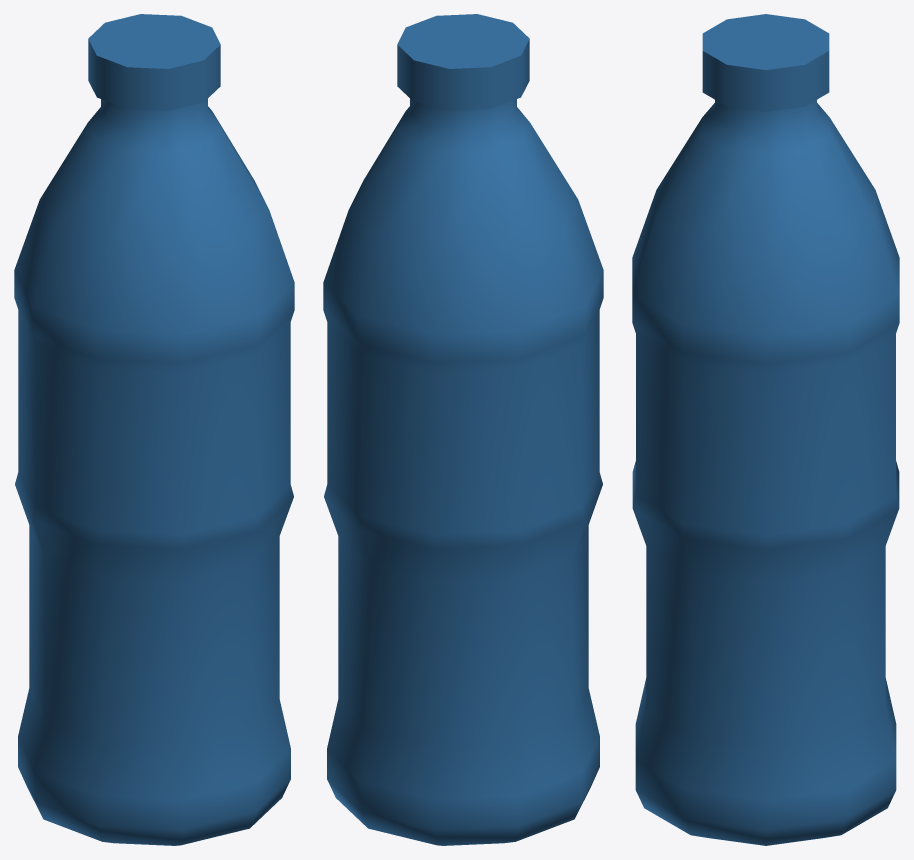
File: botelladeAwa.fbx
3 renders of one model, left to right at view 1: azimuth 30°, elevation 25°; view 2: azimuth 150°, elevation 25°; view 3: azimuth 270°, elevation 25°, orthographic.
Parts seen in each view (by area): view 1: BotellaDeAgua; view 2: BotellaDeAgua; view 3: BotellaDeAgua.
Part boxes in pixels (x1=…): BotellaDeAgua: x1=14, y1=14, x2=294, y2=845; BotellaDeAgua: x1=323, y1=14, x2=603, y2=845; BotellaDeAgua: x1=632, y1=14, x2=899, y2=845.
Size of the model in its own units: 0.1289 by 0.3853 by 0.1226.
